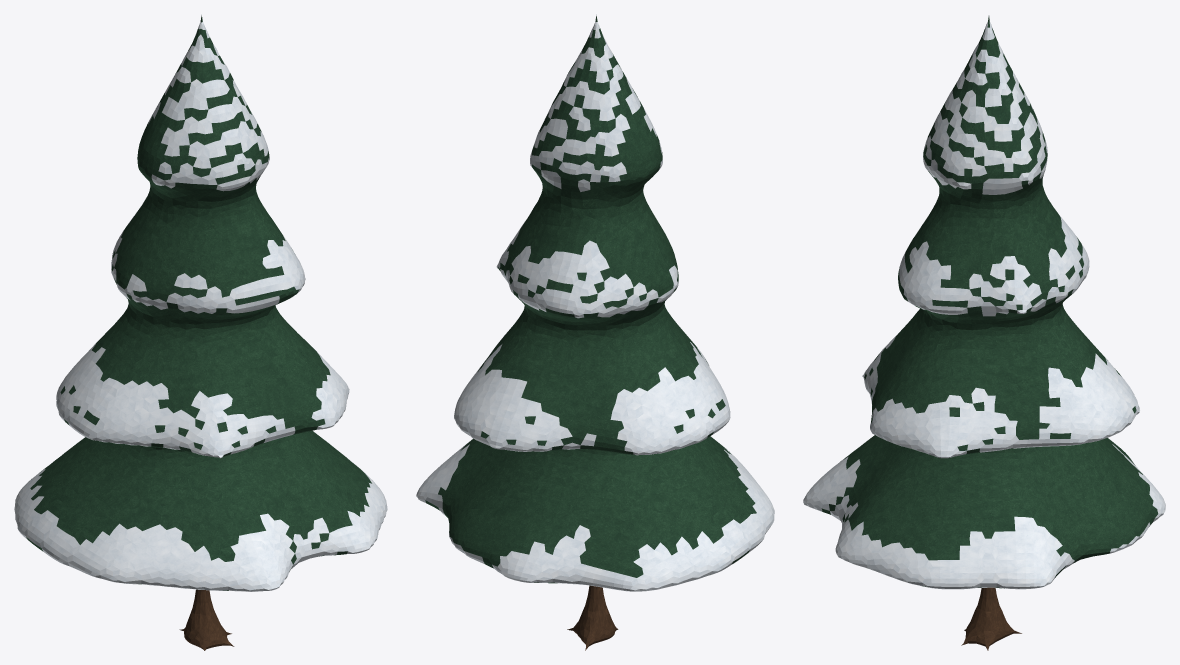
The model's file is tree_pine_a_snow.glb.
3 views of the same model, side by side, from view 1: azimuth 30°, elevation 25°; view 2: azimuth 150°, elevation 25°; view 3: azimuth 270°, elevation 25° (orthographic).
Parts seen in each view (by area): view 1: wilds_tree_pine_a_snow; view 2: wilds_tree_pine_a_snow; view 3: wilds_tree_pine_a_snow.
Boxes of the visible parts, left/top/right/bottom form: wilds_tree_pine_a_snow: left=14, top=14, right=387, bottom=650; wilds_tree_pine_a_snow: left=416, top=14, right=774, bottom=650; wilds_tree_pine_a_snow: left=803, top=15, right=1165, bottom=650.
Size of the model in its own units: 2.68 by 5.11 by 2.69.
Materials: 1 (1 with a texture image).
